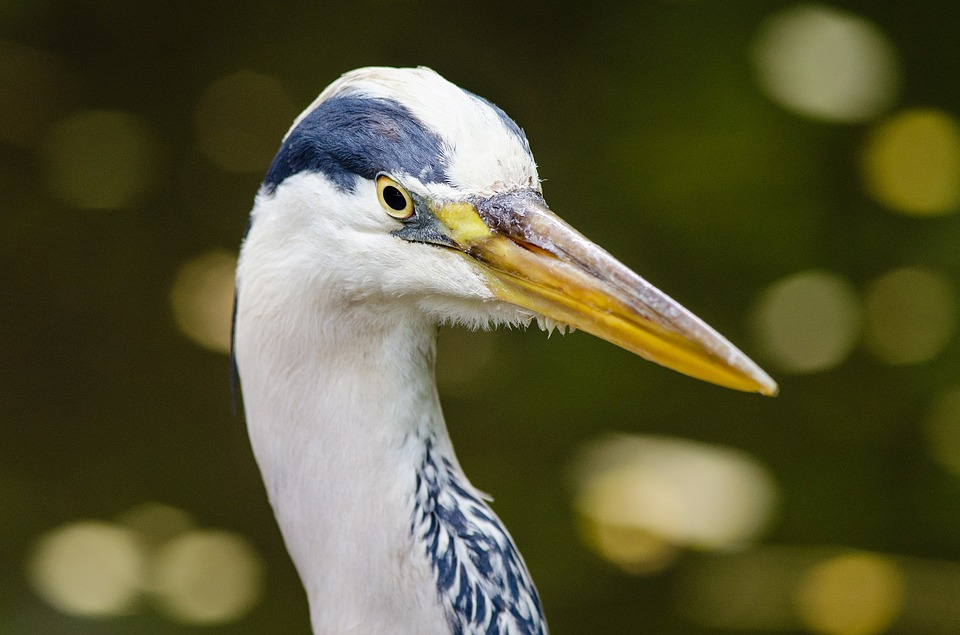heron: (200, 49, 783, 635)
